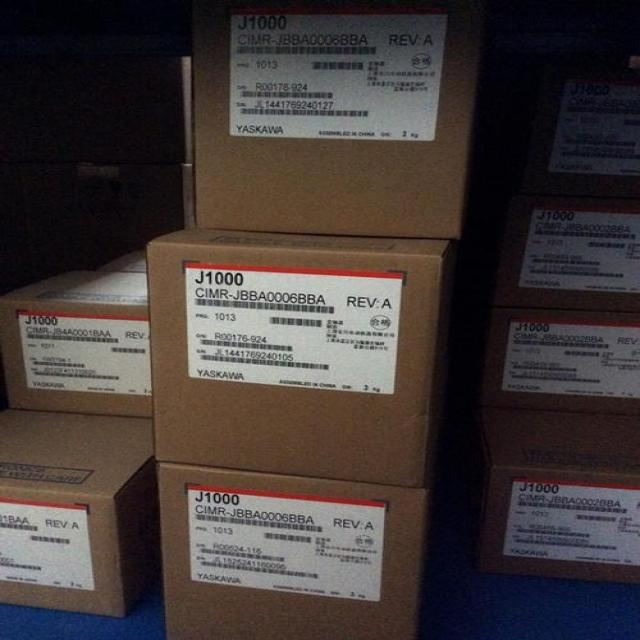Carton: (0, 243, 434, 637), (191, 9, 476, 230)
